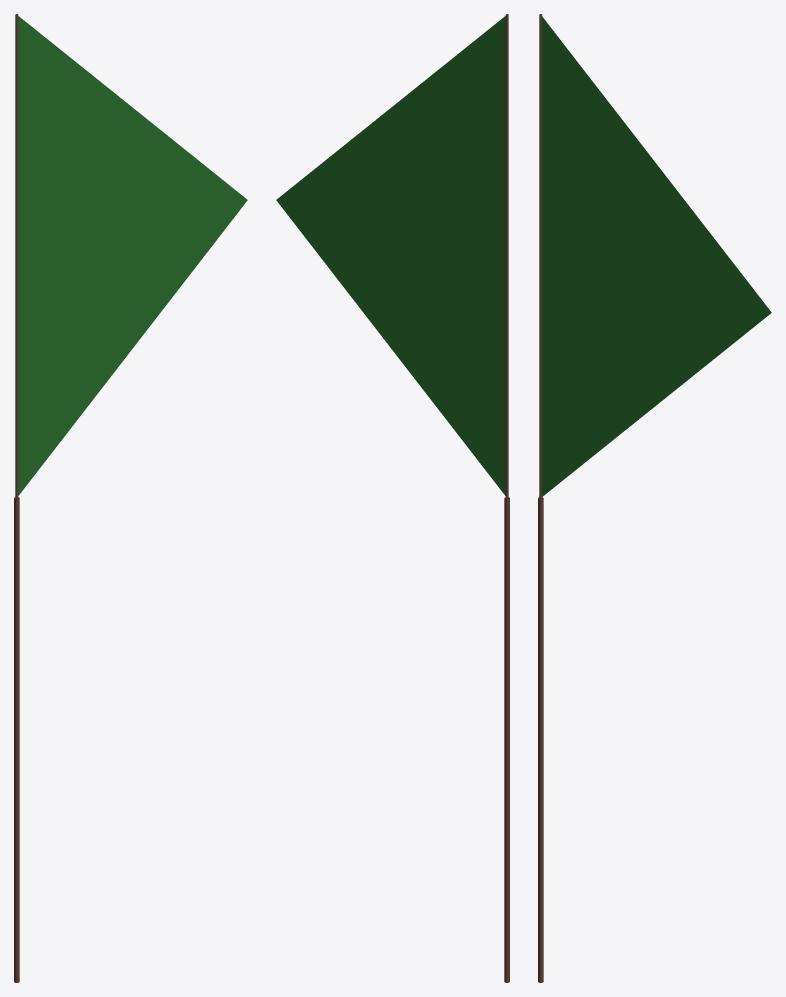
Rendered from two-colors.obj.
3 views of the same model, side by side, from view 1: azimuth 30°, elevation 25°; view 2: azimuth 150°, elevation 25°; view 3: azimuth 330°, elevation 25° (orthographic).
Bounding box in the file's own units: 0.5052 × 2 × 0.0103.
